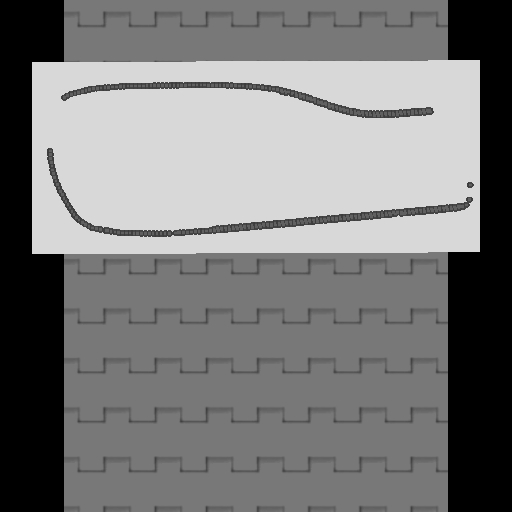Defect: (41, 90, 67, 148)
